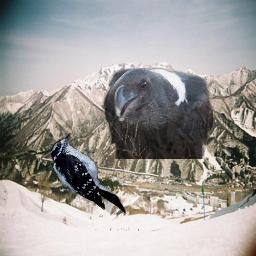Crow: (103, 67, 213, 159)
Woodpecker: (49, 133, 127, 214)
